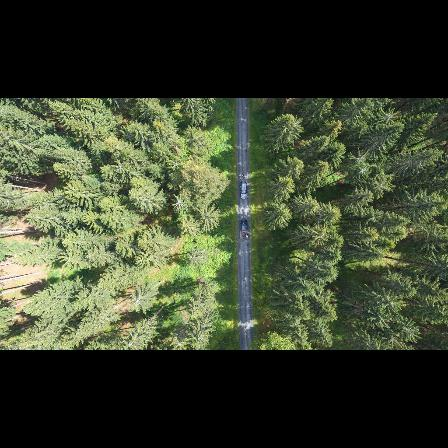Sick: (371, 106, 403, 130), (365, 175, 396, 196), (347, 147, 371, 166), (171, 190, 190, 213), (350, 163, 374, 179)
